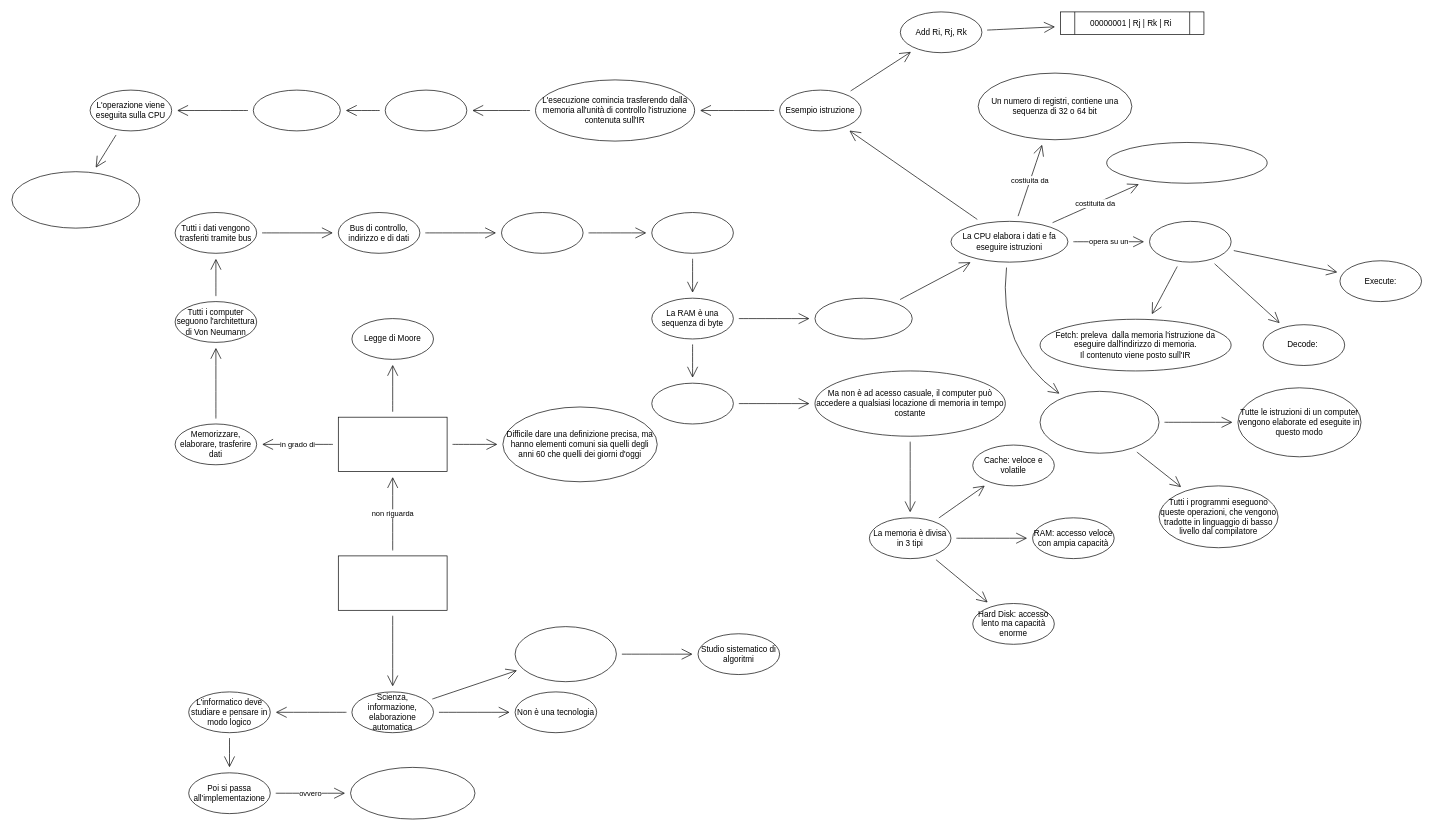
Some shapes in this 1433 by 831 pixel diagram are drawn without their labels. The shapes that lost their labels are listed below. From the top down, each one's centre as x and y in pixels, then its label:
At point (296, 110): "Gli operandi vengono trasferiti dalla memoria alla CPU".
At point (426, 110): "Questa viene poi decodificata".
At point (1186, 162): "Program Counter: contiene la prossima istruzione che deve essere eseguita".
At point (75, 199): "Il risultato viene restituito dall'ALU all'indirizzo di destinazione".
At point (542, 232): "Sottoforma di bit".
At point (692, 232): "Un byte sono 8 bit".
At point (1190, 241): "Ciclo FDE".
At point (863, 318): "La CPU può leggere o scrivere i dati nella RAM".
At point (692, 403): "Random Acces Memory".
At point (1099, 422): "I set di operazioni che possono eseguire sono poche (circa 20 distinte)".
At point (392, 444): "Computer".
At point (392, 582): "Informatica".
At point (565, 654): "Scienza che studia l'informazione, come elaborarla in modo automatizzato".
At point (412, 793): "Tradurre questi ragionamenti in un linguaggio di programmazione".
